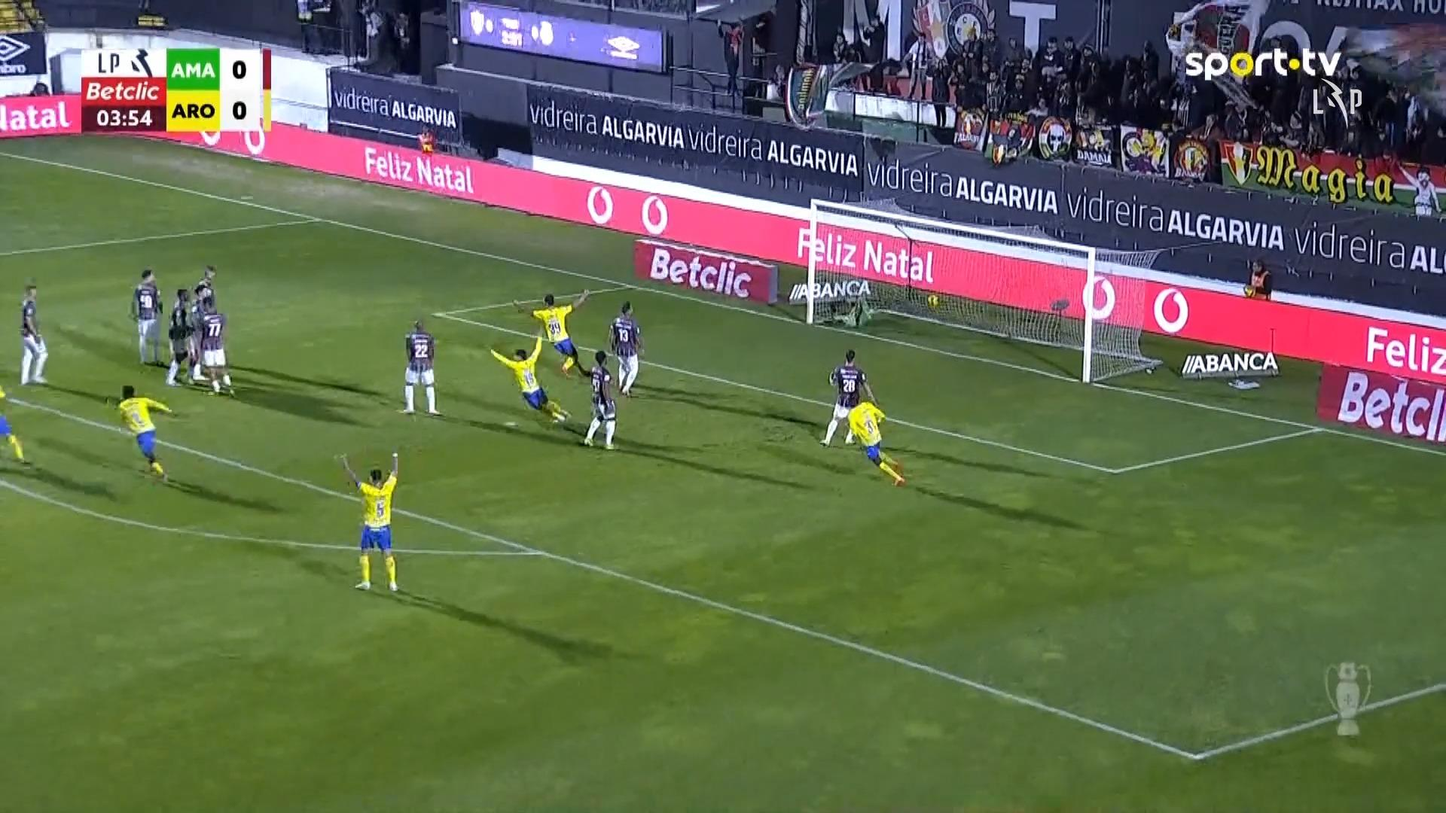ball: (927, 294, 939, 308)
goalkeeper: (818, 293, 881, 333)
player: (339, 450, 401, 592), (488, 335, 569, 424), (511, 287, 590, 378), (105, 384, 175, 482), (818, 348, 878, 447), (843, 400, 906, 486), (570, 349, 618, 449), (399, 319, 442, 415), (196, 297, 236, 397), (608, 300, 645, 397), (128, 268, 164, 366), (164, 288, 200, 385), (188, 264, 217, 382), (18, 279, 49, 385), (0, 385, 29, 464)
